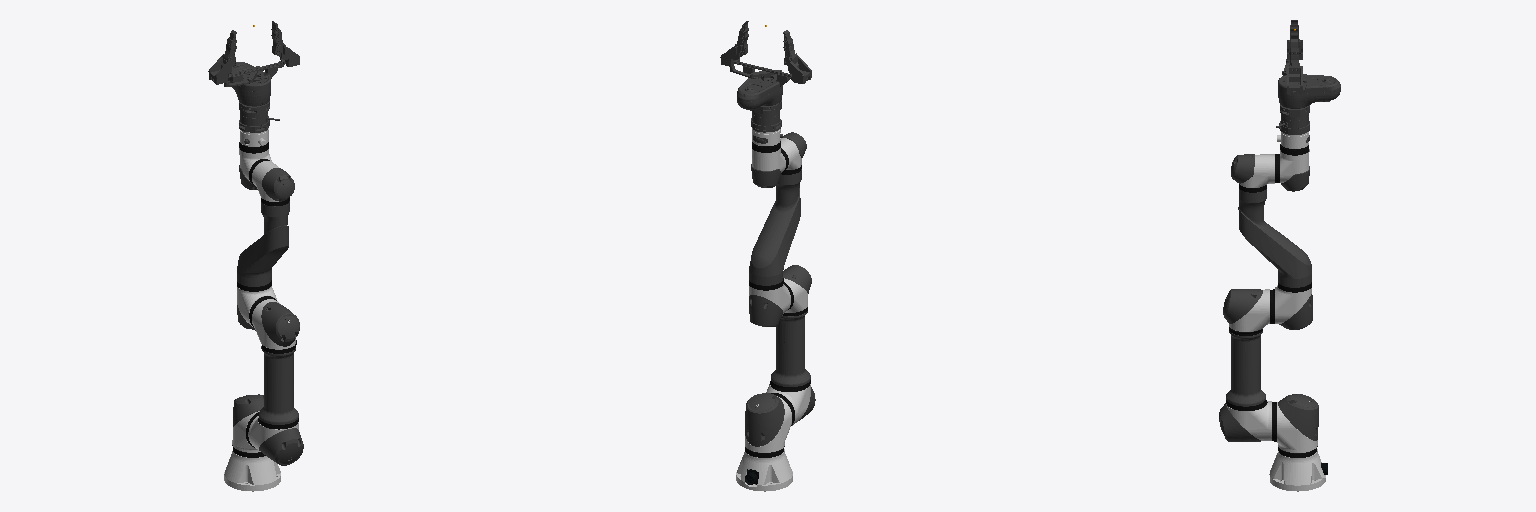
The robot description file, URDF, robot "rb3_730e":
<?xml version="1.0" ?>
<robot name="rb3_730e">
  <material name="black">
    <color rgba="0.10000000149011612 0.10000000149011612 0.10000000149011612 1.0"/>
  </material>
  <material name="gray_30">
    <color rgba="0.30000001192092896 0.30000001192092896 0.30000001192092896 1.0"/>
  </material>
  <material name="gray_80">
    <color rgba="0.800000011920929 0.800000011920929 0.800000011920929 1.0"/>
  </material>
  <material name="dark_gray">
    <color rgba="0.07227200269699097 0.09084200114011765 0.09758699685335159 1.0"/>
  </material>
  <link name="world"/>
  <link name="link0">
    <visual>
      <origin xyz="0.0 0.0 0.0" rpy="0.0 0.0 0.0"/>
      <geometry>
        <mesh filename="../meshes/robots/rb3_730e/visual/link0/link0_0.obj" scale="1.0 1.0 1.0"/>
      </geometry>
      <material name="dark_gray"/>
    </visual>
    <visual>
      <origin xyz="0.0 0.0 0.0" rpy="0.0 0.0 0.0"/>
      <geometry>
        <mesh filename="../meshes/robots/rb3_730e/visual/link0/link0_1.obj" scale="1.0 1.0 1.0"/>
      </geometry>
      <material name="gray_80"/>
    </visual>
    <visual>
      <origin xyz="0.0 0.0 0.0" rpy="0.0 0.0 0.0"/>
      <geometry>
        <mesh filename="../meshes/robots/rb3_730e/visual/link0/link0_2.obj" scale="1.0 1.0 1.0"/>
      </geometry>
      <material name="gray_80"/>
    </visual>
    <visual>
      <origin xyz="0.0 0.0 0.0" rpy="0.0 0.0 0.0"/>
      <geometry>
        <mesh filename="../meshes/robots/rb3_730e/visual/link0/link0_3.obj" scale="1.0 1.0 1.0"/>
      </geometry>
      <material name="gray_30"/>
    </visual>
    <visual>
      <origin xyz="0.0 0.0 0.0" rpy="0.0 0.0 0.0"/>
      <geometry>
        <mesh filename="../meshes/robots/rb3_730e/visual/link0/link0_4.obj" scale="1.0 1.0 1.0"/>
      </geometry>
      <material name="black"/>
    </visual>
    <collision>
      <origin xyz="0.0 0.0 0.0" rpy="0.0 0.0 -1.5708"/>
      <geometry>
        <mesh filename="../meshes/robots/rb3_730e/collision/link0.stl" scale="1.0 1.0 1.0"/>
      </geometry>
    </collision>
  </link>
  <link name="link1">
    <inertial>
      <origin xyz="0.000101 -0.003241 -0.017587" rpy="0.0 0.0 0.0"/>
      <mass value="2.058"/>
      <inertia ixx="0.003" iyy="0.003" izz="0.002" ixy="0" ixz="0" iyz="0"/>
    </inertial>
    <visual>
      <origin xyz="0.0 0.0 0.0" rpy="0.0 0.0 0.0"/>
      <geometry>
        <mesh filename="../meshes/robots/rb3_730e/visual/link1/link1_0.obj" scale="1.0 1.0 1.0"/>
      </geometry>
      <material name="gray_80"/>
    </visual>
    <visual>
      <origin xyz="0.0 0.0 0.0" rpy="0.0 0.0 0.0"/>
      <geometry>
        <mesh filename="../meshes/robots/rb3_730e/visual/link1/link1_1.obj" scale="1.0 1.0 1.0"/>
      </geometry>
      <material name="gray_30"/>
    </visual>
    <visual>
      <origin xyz="0.0 0.0 0.0" rpy="0.0 0.0 0.0"/>
      <geometry>
        <mesh filename="../meshes/robots/rb3_730e/visual/link1/link1_2.obj" scale="1.0 1.0 1.0"/>
      </geometry>
      <material name="black"/>
    </visual>
    <visual>
      <origin xyz="0.0 0.0 0.0" rpy="0.0 0.0 0.0"/>
      <geometry>
        <mesh filename="../meshes/robots/rb3_730e/visual/link1/link1_3.obj" scale="1.0 1.0 1.0"/>
      </geometry>
      <material name="gray_80"/>
    </visual>
    <visual>
      <origin xyz="0.0 0.0 0.0" rpy="0.0 0.0 0.0"/>
      <geometry>
        <mesh filename="../meshes/robots/rb3_730e/visual/link1/link1_4.obj" scale="1.0 1.0 1.0"/>
      </geometry>
      <material name="black"/>
    </visual>
    <collision>
      <origin xyz="0.0 0.0 0.0" rpy="0.0 0.0 0.0"/>
      <geometry>
        <mesh filename="../meshes/robots/rb3_730e/collision/link1.stl" scale="1.0 1.0 1.0"/>
      </geometry>
    </collision>
  </link>
  <link name="link2">
    <inertial>
      <origin xyz="-4.9e-05 -0.095326 0.121743" rpy="0.0 0.0 0.0"/>
      <mass value="4.227"/>
      <inertia ixx="0.075" iyy="0.073" izz="0.005" ixy="0" ixz="0" iyz="0"/>
    </inertial>
    <visual>
      <origin xyz="0.0 0.0 0.0" rpy="0.0 0.0 0.0"/>
      <geometry>
        <mesh filename="../meshes/robots/rb3_730e/visual/link2/link2_0.obj" scale="1.0 1.0 1.0"/>
      </geometry>
      <material name="gray_30"/>
    </visual>
    <visual>
      <origin xyz="0.0 0.0 0.0" rpy="0.0 0.0 0.0"/>
      <geometry>
        <mesh filename="../meshes/robots/rb3_730e/visual/link2/link2_1.obj" scale="1.0 1.0 1.0"/>
      </geometry>
      <material name="gray_30"/>
    </visual>
    <visual>
      <origin xyz="0.0 0.0 0.0" rpy="0.0 0.0 0.0"/>
      <geometry>
        <mesh filename="../meshes/robots/rb3_730e/visual/link2/link2_2.obj" scale="1.0 1.0 1.0"/>
      </geometry>
      <material name="gray_80"/>
    </visual>
    <visual>
      <origin xyz="0.0 0.0 0.0" rpy="0.0 0.0 0.0"/>
      <geometry>
        <mesh filename="../meshes/robots/rb3_730e/visual/link2/link2_3.obj" scale="1.0 1.0 1.0"/>
      </geometry>
      <material name="gray_80"/>
    </visual>
    <visual>
      <origin xyz="0.0 0.0 0.0" rpy="0.0 0.0 0.0"/>
      <geometry>
        <mesh filename="../meshes/robots/rb3_730e/visual/link2/link2_4.obj" scale="1.0 1.0 1.0"/>
      </geometry>
      <material name="gray_30"/>
    </visual>
    <visual>
      <origin xyz="0.0 0.0 0.0" rpy="0.0 0.0 0.0"/>
      <geometry>
        <mesh filename="../meshes/robots/rb3_730e/visual/link2/link2_5.obj" scale="1.0 1.0 1.0"/>
      </geometry>
      <material name="gray_80"/>
    </visual>
    <visual>
      <origin xyz="0.0 0.0 0.0" rpy="0.0 0.0 0.0"/>
      <geometry>
        <mesh filename="../meshes/robots/rb3_730e/visual/link2/link2_6.obj" scale="1.0 1.0 1.0"/>
      </geometry>
      <material name="gray_80"/>
    </visual>
    <visual>
      <origin xyz="0.0 0.0 0.0" rpy="0.0 0.0 0.0"/>
      <geometry>
        <mesh filename="../meshes/robots/rb3_730e/visual/link2/link2_7.obj" scale="1.0 1.0 1.0"/>
      </geometry>
      <material name="gray_30"/>
    </visual>
    <visual>
      <origin xyz="0.0 0.0 0.0" rpy="0.0 0.0 0.0"/>
      <geometry>
        <mesh filename="../meshes/robots/rb3_730e/visual/link2/link2_8.obj" scale="1.0 1.0 1.0"/>
      </geometry>
      <material name="black"/>
    </visual>
    <visual>
      <origin xyz="0.0 0.0 0.0" rpy="0.0 0.0 0.0"/>
      <geometry>
        <mesh filename="../meshes/robots/rb3_730e/visual/link2/link2_9.obj" scale="1.0 1.0 1.0"/>
      </geometry>
      <material name="black"/>
    </visual>
    <visual>
      <origin xyz="0.0 0.0 0.0" rpy="0.0 0.0 0.0"/>
      <geometry>
        <mesh filename="../meshes/robots/rb3_730e/visual/link2/link2_10.obj" scale="1.0 1.0 1.0"/>
      </geometry>
      <material name="black"/>
    </visual>
    <collision>
      <origin xyz="0.0 0.0 0.0" rpy="0.0 0.0 0.0"/>
      <geometry>
        <mesh filename="../meshes/robots/rb3_730e/collision/link2/link2_hull_000.stl" scale="1.0 1.0 1.0"/>
      </geometry>
    </collision>
    <collision>
      <origin xyz="0.0 0.0 0.0" rpy="0.0 0.0 0.0"/>
      <geometry>
        <mesh filename="../meshes/robots/rb3_730e/collision/link2/link2_hull_001.stl" scale="1.0 1.0 1.0"/>
      </geometry>
    </collision>
    <collision>
      <origin xyz="0.0 0.0 0.0" rpy="0.0 0.0 0.0"/>
      <geometry>
        <mesh filename="../meshes/robots/rb3_730e/collision/link2/link2_hull_002.stl" scale="1.0 1.0 1.0"/>
      </geometry>
    </collision>
  </link>
  <link name="link3">
    <inertial>
      <origin xyz="0.0 -0.004 0.026" rpy="0.0 0.0 0.0"/>
      <mass value="1.45"/>
      <inertia ixx="0.02" iyy="0.018" izz="0.003" ixy="0" ixz="0" iyz="0.004"/>
    </inertial>
    <visual>
      <origin xyz="0.0 0.0 0.0" rpy="0.0 0.0 0.0"/>
      <geometry>
        <mesh filename="../meshes/robots/rb3_730e/visual/link3/link3_0.obj" scale="1.0 1.0 1.0"/>
      </geometry>
      <material name="black"/>
    </visual>
    <visual>
      <origin xyz="0.0 0.0 0.0" rpy="0.0 0.0 0.0"/>
      <geometry>
        <mesh filename="../meshes/robots/rb3_730e/visual/link3/link3_1.obj" scale="1.0 1.0 1.0"/>
      </geometry>
      <material name="gray_80"/>
    </visual>
    <visual>
      <origin xyz="0.0 0.0 0.0" rpy="0.0 0.0 0.0"/>
      <geometry>
        <mesh filename="../meshes/robots/rb3_730e/visual/link3/link3_2.obj" scale="1.0 1.0 1.0"/>
      </geometry>
      <material name="gray_80"/>
    </visual>
    <visual>
      <origin xyz="0.0 0.0 0.0" rpy="0.0 0.0 0.0"/>
      <geometry>
        <mesh filename="../meshes/robots/rb3_730e/visual/link3/link3_3.obj" scale="1.0 1.0 1.0"/>
      </geometry>
      <material name="gray_30"/>
    </visual>
    <visual>
      <origin xyz="0.0 0.0 0.0" rpy="0.0 0.0 0.0"/>
      <geometry>
        <mesh filename="../meshes/robots/rb3_730e/visual/link3/link3_4.obj" scale="1.0 1.0 1.0"/>
      </geometry>
      <material name="black"/>
    </visual>
    <visual>
      <origin xyz="0.0 0.0 0.0" rpy="0.0 0.0 0.0"/>
      <geometry>
        <mesh filename="../meshes/robots/rb3_730e/visual/link3/link3_5.obj" scale="1.0 1.0 1.0"/>
      </geometry>
      <material name="black"/>
    </visual>
    <collision>
      <origin xyz="0.0 0.0 0.0" rpy="0.0 0.0 0.0"/>
      <geometry>
        <mesh filename="../meshes/robots/rb3_730e/collision/link3.stl" scale="1.0 1.0 1.0"/>
      </geometry>
    </collision>
  </link>
  <link name="link4">
    <inertial>
      <origin xyz="0.0 -0.065 0.264" rpy="0.0 0.0 0.0"/>
      <mass value="1.798"/>
      <inertia ixx="0.02" iyy="0.018" izz="0.003" ixy="0" ixz="0" iyz="0.004"/>
    </inertial>
    <visual>
      <origin xyz="0.0 0.0 0.0" rpy="0.0 0.0 0.0"/>
      <geometry>
        <mesh filename="../meshes/robots/rb3_730e/visual/link4/link4_0.obj" scale="1.0 1.0 1.0"/>
      </geometry>
      <material name="gray_30"/>
    </visual>
    <visual>
      <origin xyz="0.0 0.0 0.0" rpy="0.0 0.0 0.0"/>
      <geometry>
        <mesh filename="../meshes/robots/rb3_730e/visual/link4/link4_1.obj" scale="1.0 1.0 1.0"/>
      </geometry>
      <material name="black"/>
    </visual>
    <visual>
      <origin xyz="0.0 0.0 0.0" rpy="0.0 0.0 0.0"/>
      <geometry>
        <mesh filename="../meshes/robots/rb3_730e/visual/link4/link4_2.obj" scale="1.0 1.0 1.0"/>
      </geometry>
      <material name="gray_80"/>
    </visual>
    <visual>
      <origin xyz="0.0 0.0 0.0" rpy="0.0 0.0 0.0"/>
      <geometry>
        <mesh filename="../meshes/robots/rb3_730e/visual/link4/link4_3.obj" scale="1.0 1.0 1.0"/>
      </geometry>
      <material name="black"/>
    </visual>
    <visual>
      <origin xyz="0.0 0.0 0.0" rpy="0.0 0.0 0.0"/>
      <geometry>
        <mesh filename="../meshes/robots/rb3_730e/visual/link4/link4_4.obj" scale="1.0 1.0 1.0"/>
      </geometry>
      <material name="gray_30"/>
    </visual>
    <collision>
      <origin xyz="0.0 0.0 0.0" rpy="0.0 0.0 0.0"/>
      <geometry>
        <mesh filename="../meshes/robots/rb3_730e/collision/link4/link4_hull_000.stl" scale="1.0 1.0 1.0"/>
      </geometry>
    </collision>
    <collision>
      <origin xyz="0.0 0.0 0.0" rpy="0.0 0.0 0.0"/>
      <geometry>
        <mesh filename="../meshes/robots/rb3_730e/collision/link4/link4_hull_001.stl" scale="1.0 1.0 1.0"/>
      </geometry>
    </collision>
    <collision>
      <origin xyz="0.0 0.0 0.0" rpy="0.0 0.0 0.0"/>
      <geometry>
        <mesh filename="../meshes/robots/rb3_730e/collision/link4/link4_hull_002.stl" scale="1.0 1.0 1.0"/>
      </geometry>
    </collision>
    <collision>
      <origin xyz="0.0 0.0 0.0" rpy="0.0 0.0 0.0"/>
      <geometry>
        <mesh filename="../meshes/robots/rb3_730e/collision/link4/link4_hull_003.stl" scale="1.0 1.0 1.0"/>
      </geometry>
    </collision>
  </link>
  <link name="link5">
    <inertial>
      <origin xyz="0.0 -0.001 0.017" rpy="0.0 0.0 0.0"/>
      <mass value="0.944"/>
      <inertia ixx="0.000776694" iyy="0.000786695" izz="0.000515123" ixy="5.052e-06" ixz="-5.306e-06" iyz="-1.7419e-05"/>
    </inertial>
    <visual>
      <origin xyz="0.0 0.0 0.0" rpy="0.0 0.0 0.0"/>
      <geometry>
        <mesh filename="../meshes/robots/rb3_730e/visual/link5/link5_0.obj" scale="1.0 1.0 1.0"/>
      </geometry>
      <material name="black"/>
    </visual>
    <visual>
      <origin xyz="0.0 0.0 0.0" rpy="0.0 0.0 0.0"/>
      <geometry>
        <mesh filename="../meshes/robots/rb3_730e/visual/link5/link5_1.obj" scale="1.0 1.0 1.0"/>
      </geometry>
      <material name="gray_80"/>
    </visual>
    <visual>
      <origin xyz="0.0 0.0 0.0" rpy="0.0 0.0 0.0"/>
      <geometry>
        <mesh filename="../meshes/robots/rb3_730e/visual/link5/link5_2.obj" scale="1.0 1.0 1.0"/>
      </geometry>
      <material name="gray_80"/>
    </visual>
    <visual>
      <origin xyz="0.0 0.0 0.0" rpy="0.0 0.0 0.0"/>
      <geometry>
        <mesh filename="../meshes/robots/rb3_730e/visual/link5/link5_3.obj" scale="1.0 1.0 1.0"/>
      </geometry>
      <material name="gray_30"/>
    </visual>
    <collision>
      <origin xyz="0.0 0.0 0.0" rpy="0.0 0.0 0.0"/>
      <geometry>
        <mesh filename="../meshes/robots/rb3_730e/collision/link5.stl" scale="1.0 1.0 1.0"/>
      </geometry>
    </collision>
  </link>
  <link name="link6">
    <inertial>
      <origin xyz="-0.001 -0.001 0.068" rpy="0.0 0.0 0.0"/>
      <mass value="0.05"/>
      <inertia ixx="2.6302e-05" iyy="1.6887e-05" izz="3.5232e-05" ixy="-3.4e-07" ixz="4.57e-07" iyz="1.48e-07"/>
    </inertial>
    <visual>
      <origin xyz="0.0 0.0 0.0" rpy="0.0 0.0 0.0"/>
      <geometry>
        <mesh filename="../meshes/robots/rb3_730e/visual/link6/link6_0.obj" scale="1.0 1.0 1.0"/>
      </geometry>
      <material name="black"/>
    </visual>
    <visual>
      <origin xyz="0.0 0.0 0.0" rpy="0.0 0.0 0.0"/>
      <geometry>
        <mesh filename="../meshes/robots/rb3_730e/visual/link6/link6_1.obj" scale="1.0 1.0 1.0"/>
      </geometry>
      <material name="gray_30"/>
    </visual>
    <visual>
      <origin xyz="0.0 0.0 0.0" rpy="0.0 0.0 0.0"/>
      <geometry>
        <mesh filename="../meshes/robots/rb3_730e/visual/link6/link6_2.obj" scale="1.0 1.0 1.0"/>
      </geometry>
      <material name="gray_30"/>
    </visual>
    <visual>
      <origin xyz="0.0 0.0 0.0" rpy="0.0 0.0 0.0"/>
      <geometry>
        <mesh filename="../meshes/robots/rb3_730e/visual/link6/link6_3.obj" scale="1.0 1.0 1.0"/>
      </geometry>
      <material name="gray_80"/>
    </visual>
    <visual>
      <origin xyz="0.0 0.0 0.0" rpy="0.0 0.0 0.0"/>
      <geometry>
        <mesh filename="../meshes/robots/rb3_730e/visual/link6/link6_4.obj" scale="1.0 1.0 1.0"/>
      </geometry>
      <material name="gray_80"/>
    </visual>
    <visual>
      <origin xyz="0.0 0.0 0.0" rpy="0.0 0.0 0.0"/>
      <geometry>
        <mesh filename="../meshes/robots/rb3_730e/visual/link6/link6_5.obj" scale="1.0 1.0 1.0"/>
      </geometry>
      <material name="gray_30"/>
    </visual>
    <visual>
      <origin xyz="0.0 0.0 0.0" rpy="0.0 0.0 0.0"/>
      <geometry>
        <mesh filename="../meshes/robots/rb3_730e/visual/link6/link6_6.obj" scale="1.0 1.0 1.0"/>
      </geometry>
      <material name="gray_30"/>
    </visual>
    <collision>
      <origin xyz="0.0 0.0 0.0" rpy="0.0 0.0 0.0"/>
      <geometry>
        <mesh filename="../meshes/robots/rb3_730e/collision/link6.stl" scale="1.0 1.0 1.0"/>
      </geometry>
    </collision>
  </link>
  <link name="tcp">
    <visual>
      <origin xyz="0.0 0.0 0.0" rpy="0.0 0.0 0.0"/>
      <geometry>
        <sphere radius="0.0025"/>
      </geometry>
    </visual>
  </link>
  <link name="attachment_site">
    <visual>
      <origin xyz="0.0 0.0 0.0" rpy="0.0 0.0 0.0"/>
      <geometry>
        <sphere radius="0.0025"/>
      </geometry>
    </visual>
  </link>
  <!-- Robotous RFT64-6A01 frames embedded in the combined Pika tool CAD.
       The sensor mesh occupies attachment_site z=0.015..0.045 m: a 15 mm
       robot-side adapter followed by the 30 mm sensor body. The measurement
       origin is the RFT64 sensor_site at the tool-side face. The +90 deg yaw
       matches the baked Pika/RFT CAD orientation. This is a mechanical CAD
       frame only; the accepted rbpodo EFT/control frame is configured and
       published separately by rb_servo_server. -->
  <link name="ft_sensor_base"/>
  <link name="ft_sensor_measurement"/>
  <!-- GUI-ONLY articulated gripper. Base = pika_gripper.STL minus the two finger
       components (the +90deg about Z visual rotation is baked into the exported
       meshes, so the visual origin is identity here). The two fingers are separate
       prismatic links so the GUI can show continuous open/close. NOTE: this URDF is
       for the viewer only; the C++ Pinocchio FK/IK uses rb3_730e.urdf (extra
       actuated joints would change its DOF). Regenerate from rb3_730e.urdf if the
       arm chain changes. -->
  <link name="tool">
    <visual>
      <origin xyz="0.0 0.0 0.0" rpy="0.0 0.0 0.0"/>
      <geometry>
        <mesh filename="../meshes/robots/rb5_850e/visual/tool/pika_gripper_base.STL" scale="0.001 0.001 0.001"/>
      </geometry>
      <material name="gray_30"/>
    </visual>
  </link>
  <link name="finger_left">
    <visual>
      <origin xyz="0.0 0.0 0.0" rpy="0.0 0.0 0.0"/>
      <geometry>
        <mesh filename="../meshes/robots/rb5_850e/visual/tool/pika_finger_left.STL" scale="0.001 0.001 0.001"/>
      </geometry>
      <material name="gray_30"/>
    </visual>
  </link>
  <link name="finger_right">
    <visual>
      <origin xyz="0.0 0.0 0.0" rpy="0.0 0.0 0.0"/>
      <geometry>
        <mesh filename="../meshes/robots/rb5_850e/visual/tool/pika_finger_right.STL" scale="0.001 0.001 0.001"/>
      </geometry>
      <material name="gray_30"/>
    </visual>
  </link>
  <joint name="attachment_site_joint" type="fixed">
    <parent link="link6"/>
    <child link="attachment_site"/>
    <origin xyz="0.0 0.0 0.1" rpy="0.0 0.0 0.0"/>
  </joint>
  <joint name="ft_sensor_base_joint" type="fixed">
    <parent link="attachment_site"/>
    <child link="ft_sensor_base"/>
    <origin xyz="0.0 0.0 0.015" rpy="0.0 0.0 1.5707963267948966"/>
  </joint>
  <joint name="ft_sensor_measurement_joint" type="fixed">
    <parent link="ft_sensor_base"/>
    <child link="ft_sensor_measurement"/>
    <origin xyz="0.0 0.0 0.030" rpy="0.0 0.0 0.0"/>
  </joint>
  <joint name="tool_joint" type="fixed">
    <parent link="attachment_site"/>
    <child link="tool"/>
    <origin xyz="0.0 0.0 0.0" rpy="0.0 0.0 0.0"/>
  </joint>
  <joint name="tcp_joint" type="fixed">
    <parent link="attachment_site"/>
    <child link="tcp"/>
    <!-- Pika gripper fingertip plane = pika_gripper.STL z-max (247.642 mm), measured
         from attachment_site (flange +0.1 m). The older 0.21616 matched the legacy
         tool.STL tip. Disable by removing <origin> (URDF then defaults to identity,
         tcp == attachment_site). -->
    <origin xyz="0.0 0.0 0.247642" rpy="0.0 0.0 0.0"/>
  </joint>
  <joint name="link0_fixed" type="fixed">
    <parent link="world"/>
    <child link="link0"/>
    <origin xyz="0.0 0.0 0.0" rpy="0.0 0.0 1.5708"/>
  </joint>
  <joint name="base_joint" type="revolute">
    <parent link="link0"/>
    <child link="link1"/>
    <origin xyz="0.0 0.0 0.1453" rpy="0.0 0.0 -1.5708"/>
    <axis xyz="0.0 0.0 1.0"/>
    <limit lower="-6.2832" upper="6.2832" effort="150.0" velocity="3.141592653589793"/>
  </joint>
  <joint name="shoulder_joint" type="revolute">
    <parent link="link1"/>
    <child link="link2"/>
    <origin xyz="0.0 0.0 0.0" rpy="0.0 0.0 0.0"/>
    <axis xyz="0.0 1.0 0.0"/>
    <limit lower="-6.2832" upper="6.2832" effort="150.0" velocity="3.141592653589793"/>
  </joint>
  <joint name="elbow_joint" type="revolute">
    <parent link="link2"/>
    <child link="link3"/>
    <origin xyz="0.0 -0.00645 0.286" rpy="0.0 0.0 0.0"/>
    <axis xyz="0.0 1.0 0.0"/>
    <!-- elbow (J3) physical range on RB3-730E is +/-150 deg (+/-2.618 rad); the joint
         cannot reach +/-360 deg (catalog). Kept at the true physical range to mirror the
         kinematics URDF (rb3_730e.urdf) so IK never selects an unreachable elbow branch.
         See docs/joint_range_policy.md "Kinematics Alignment". -->
    <limit lower="-2.618" upper="2.618" effort="150.0" velocity="3.141592653589793"/>
  </joint>
  <joint name="wrist1_joint" type="revolute">
    <parent link="link3"/>
    <child link="link4"/>
    <origin xyz="0.0 0.0 0.0" rpy="0.0 0.0 0.0"/>
    <axis xyz="0.0 0.0 1.0"/>
    <limit lower="-6.2832" upper="6.2832" effort="150.0" velocity="3.141592653589793"/>
  </joint>
  <joint name="wrist2_joint" type="revolute">
    <parent link="link4"/>
    <child link="link5"/>
    <origin xyz="0.0 0.0 0.344" rpy="0.0 0.0 0.0"/>
    <axis xyz="0.0 1.0 0.0"/>
    <limit lower="-6.2832" upper="6.2832" effort="28.0" velocity="3.141592653589793"/>
  </joint>
  <joint name="wrist3_joint" type="revolute">
    <parent link="link5"/>
    <child link="link6"/>
    <origin xyz="0.0 0.0 0.0" rpy="0.0 0.0 0.0"/>
    <axis xyz="0.0 0.0 1.0"/>
    <limit lower="-6.2832" upper="6.2832" effort="28.0" velocity="3.141592653589793"/>
  </joint>
  <!-- Jaw axis = X (baked frame). 0 = STL pose (open, about 94 mm inner gap);
       closing drives finger_left +X and finger_right minus X toward the center.
       The GUI maps gripper percent to these positions (0% closed, 100% open). -->
  <joint name="finger_left_joint" type="prismatic">
    <parent link="attachment_site"/>
    <child link="finger_left"/>
    <origin xyz="0.0 0.0 0.0" rpy="0.0 0.0 0.0"/>
    <axis xyz="1.0 0.0 0.0"/>
    <limit lower="0.0" upper="0.05" effort="20.0" velocity="0.5"/>
  </joint>
  <joint name="finger_right_joint" type="prismatic">
    <parent link="attachment_site"/>
    <child link="finger_right"/>
    <origin xyz="0.0 0.0 0.0" rpy="0.0 0.0 0.0"/>
    <axis xyz="1.0 0.0 0.0"/>
    <limit lower="-0.05" upper="0.0" effort="20.0" velocity="0.5"/>
  </joint>
</robot>

--- Render facts (derived) ---
3 views of the same robot in one strip: view 1: azimuth 30°, elevation 25°; view 2: azimuth 150°, elevation 25°; view 3: azimuth 270°, elevation 25° (orthographic).
Robot: rb3_730e — 15 links, 14 joints (6 revolute, 2 prismatic, 6 fixed); root link world; default pose: every joint at zero.
Visible links, largest first — view 1: link2, link4, tool, link0, link1, link3, finger_left, link5, finger_right; view 2: link4, link2, tool, link1, link0, link3, link5, finger_left, finger_right; view 3: link2, link4, link1, tool, link0, link3, link5, finger_right.
Link boxes in pixels (box(x1,y1,x2,y2)): link2: box(248, 299, 303, 465); link4: box(237, 159, 294, 286); tool: box(212, 59, 285, 132); link0: box(224, 448, 280, 491); link1: box(232, 394, 263, 453); link3: box(237, 280, 276, 330); finger_left: box(208, 30, 236, 84); link5: box(239, 142, 271, 189); finger_right: box(271, 21, 299, 66); link4: box(749, 132, 806, 285); link2: box(766, 265, 815, 425); tool: box(730, 59, 807, 132); link1: box(745, 393, 794, 453); link0: box(736, 448, 792, 491); link3: box(749, 278, 792, 326); link5: box(751, 142, 785, 187); finger_left: box(783, 30, 811, 83); finger_right: box(720, 21, 748, 66); link2: box(1219, 289, 1271, 441); link4: box(1231, 154, 1311, 287); link1: box(1272, 394, 1318, 453); tool: box(1276, 59, 1340, 134); link0: box(1269, 448, 1327, 491); link3: box(1270, 282, 1312, 329); link5: box(1280, 144, 1309, 191); finger_right: box(1287, 39, 1302, 94).
Bounding box of the posed robot: 0.2157 × 0.2761 × 1.13 m (x, y, z).
46 mesh visuals loaded from 46 distinct referenced files (3 binary STL, 43 OBJ).
